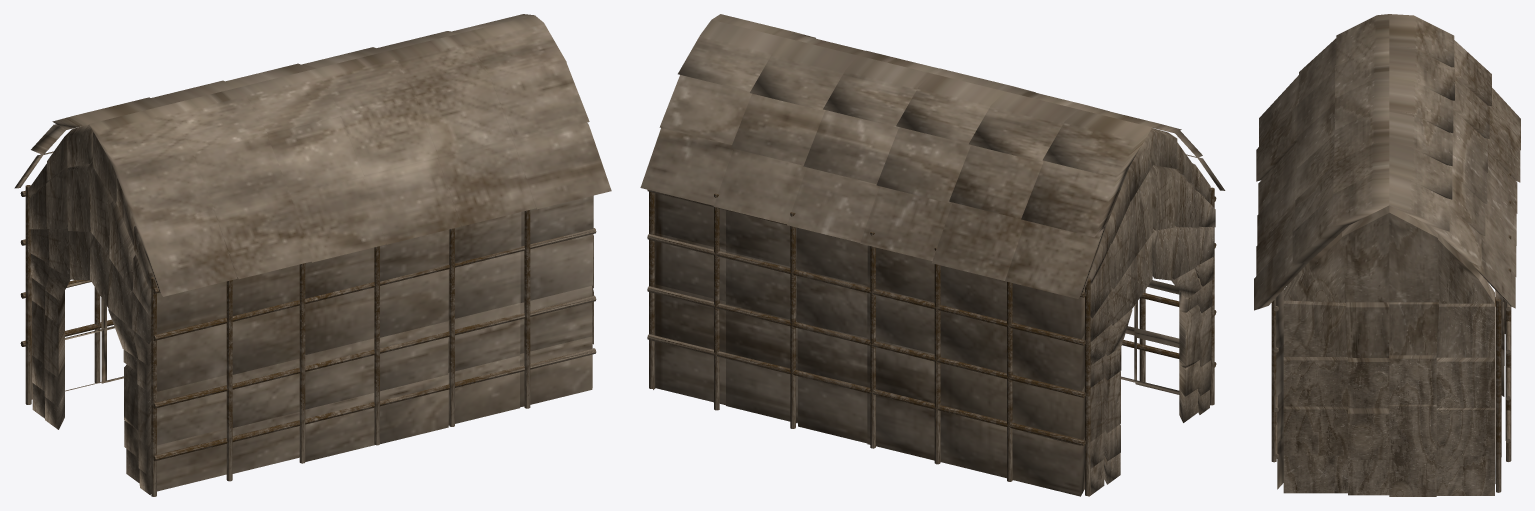
3 views of the same model, side by side, from view 1: azimuth 30°, elevation 25°; view 2: azimuth 150°, elevation 25°; view 3: azimuth 270°, elevation 25° (orthographic). The views are drawn at different scales.
Parts seen in each view (by area): view 1: pPlane6, pPlane9, pCylinder16, pCylinder17, pCylinder15, pCylinder7, pCylinder5, pCylinder4, pCylinder3, pCylinder6, pCylinder1, pCylinder2; view 2: pPlane6, pPlane9, pCylinder22, pCylinder20, pCylinder21, pCylinder9, pCylinder7, pCylinder11, pCylinder12, pCylinder10, pCylinder8, pCylinder13 (+1 smaller); view 3: pPlane6, pPlane3, pCylinder13, pCylinder3, pCylinder12.
Part boxes in pixels (x1=…): pPlane6: x1=14, y1=14, x2=611, y2=491; pPlane9: x1=29, y1=124, x2=153, y2=495; pCylinder16: x1=153, y1=295, x2=596, y2=408; pCylinder17: x1=153, y1=348, x2=596, y2=461; pCylinder15: x1=153, y1=228, x2=596, y2=340; pCylinder7: x1=25, y1=185, x2=31, y2=404; pCylinder5: x1=226, y1=280, x2=232, y2=481; pCylinder4: x1=299, y1=263, x2=305, y2=463; pCylinder3: x1=524, y1=210, x2=530, y2=408; pCylinder6: x1=151, y1=276, x2=156, y2=496; pCylinder1: x1=374, y1=246, x2=379, y2=445; pCylinder2: x1=449, y1=228, x2=454, y2=426; pPlane6: x1=640, y1=14, x2=1225, y2=496; pPlane9: x1=1088, y1=128, x2=1215, y2=496; pCylinder22: x1=647, y1=334, x2=1085, y2=445; pCylinder20: x1=647, y1=234, x2=1085, y2=345; pCylinder21: x1=647, y1=286, x2=1085, y2=397; pCylinder9: x1=934, y1=247, x2=940, y2=464; pCylinder7: x1=1085, y1=278, x2=1090, y2=496; pCylinder11: x1=790, y1=212, x2=795, y2=428; pCylinder12: x1=714, y1=193, x2=719, y2=410; pCylinder10: x1=870, y1=231, x2=875, y2=448; pCylinder8: x1=1007, y1=282, x2=1012, y2=481; pCylinder13: x1=649, y1=191, x2=654, y2=388; pPlane6: x1=1254, y1=14, x2=1520, y2=489; pPlane3: x1=1283, y1=205, x2=1494, y2=496; pCylinder13: x1=1496, y1=299, x2=1501, y2=492; pCylinder3: x1=1271, y1=301, x2=1276, y2=462; pCylinder12: x1=1506, y1=268, x2=1511, y2=461.
Size of the model in its own units: 8.65 by 6.11 by 5.05.
Materials: 1 (1 with a texture image).
